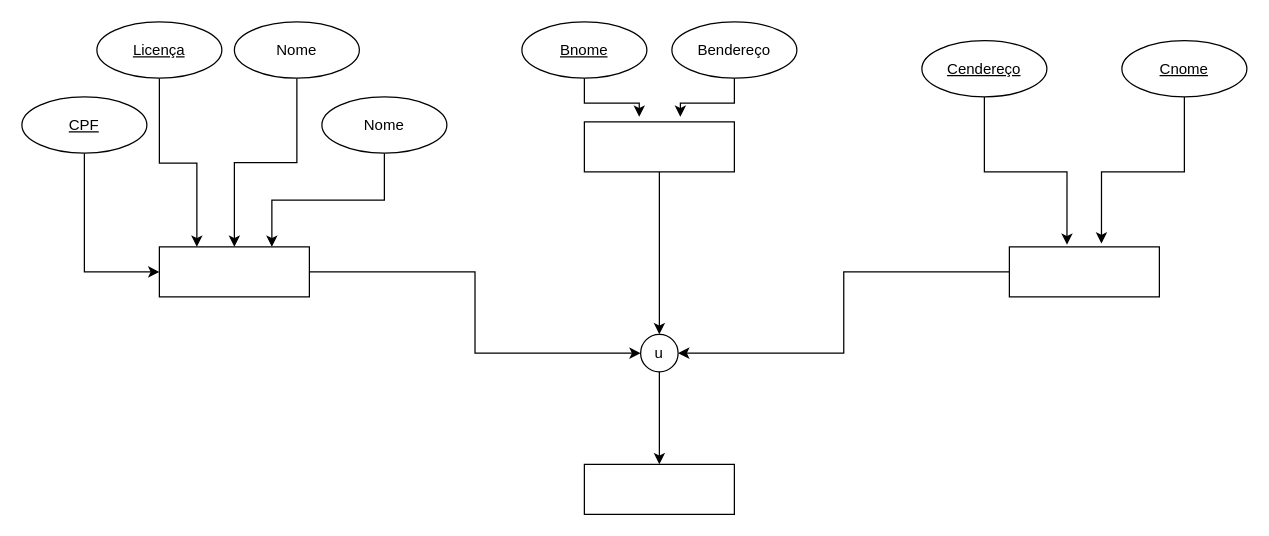
This 1269x536 diagram has some shape labels left out. Here are the shapes that lost their labels. From the top down, the centre of each, then its label:
the point at 658,146: Banco
the point at 233,271: Pessoa
the point at 1083,271: Companhia
the point at 658,488: Owner
